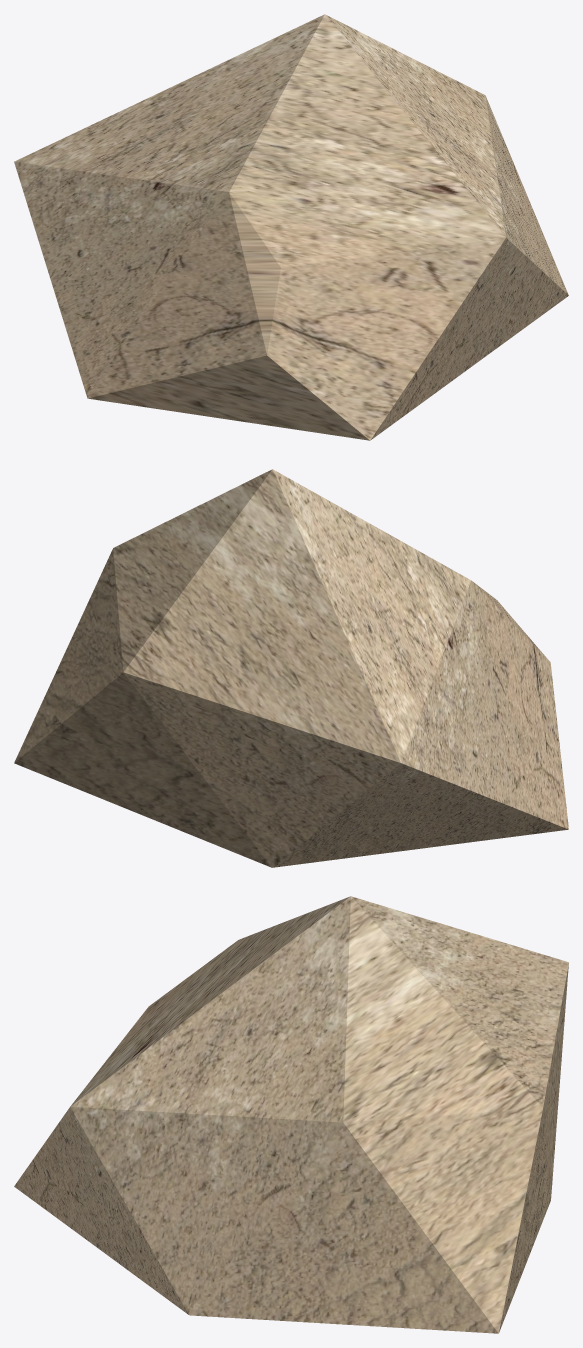
File: Rock.fbx
3 views of the same model, one above another, from view 1: azimuth 30°, elevation 25°; view 2: azimuth 150°, elevation 25°; view 3: azimuth 270°, elevation 25° (orthographic). The views are drawn at different scales.
Visible parts, largest first — view 1: Icosphere; view 2: Icosphere; view 3: Icosphere.
Part boxes in pixels (x1,y1,x2,y2): Icosphere: (14,14,568,440); Icosphere: (14,469,568,867); Icosphere: (14,896,568,1333).
Bounding box in the file's own units: 164 × 120 × 150.
Materials: 1 (1 with a texture image).
